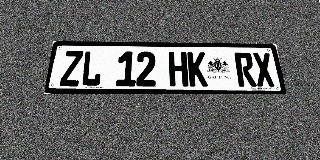1: (116, 51, 136, 86)
2: (136, 51, 155, 86)
H: (169, 52, 188, 87)
K: (187, 52, 208, 87)
L: (80, 51, 103, 86)
R: (234, 52, 257, 87)
X: (252, 53, 276, 87)
Z: (59, 51, 83, 86)
